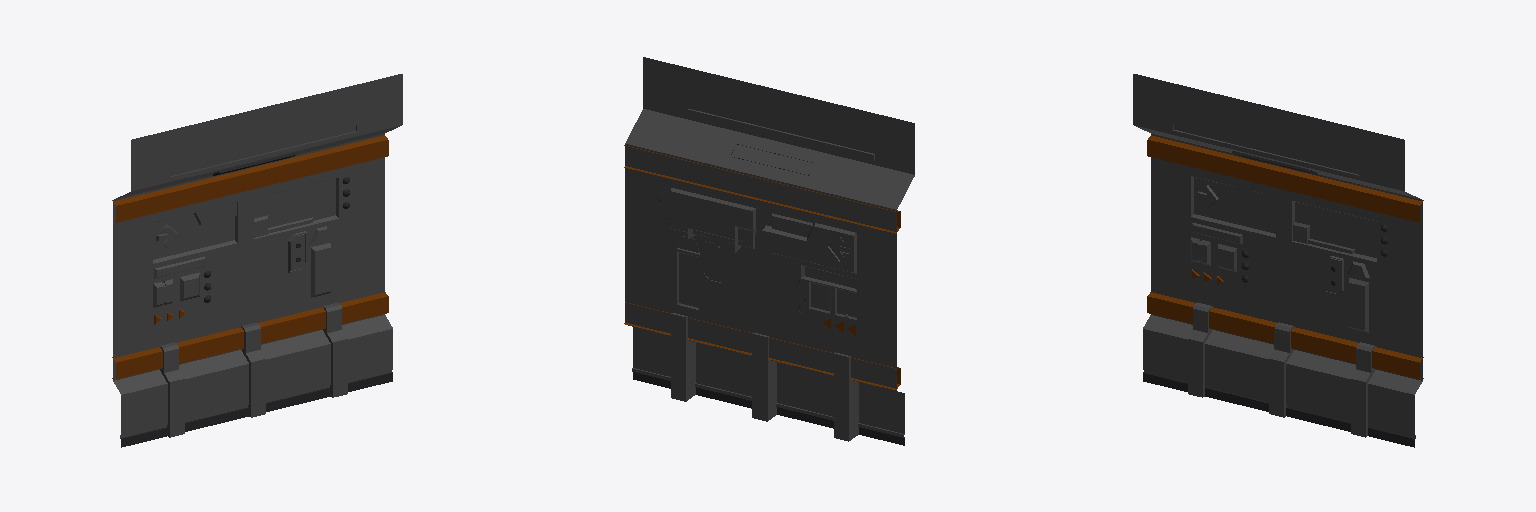
File: Wall_4.obj
3 renders of one model, left to right at view 1: azimuth 30°, elevation 25°; view 2: azimuth 150°, elevation 25°; view 3: azimuth 330°, elevation 25°, orthographic.
Visible parts, largest first — view 1: Wall_4_Plane.112; view 2: Wall_4_Plane.112; view 3: Wall_4_Plane.112.
Boxes of the visible parts, box(x1,y1,x2,y2) form: Wall_4_Plane.112: box(112, 74, 402, 447); Wall_4_Plane.112: box(624, 57, 914, 445); Wall_4_Plane.112: box(1133, 74, 1423, 447).
Size of the model in its own units: 4 by 4.43 by 0.5726.